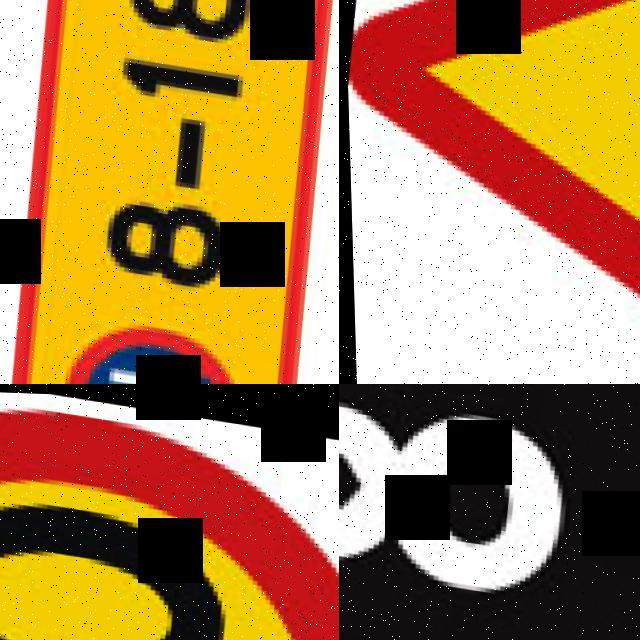100: (339, 384, 640, 640)
181: (0, 0, 339, 384)
55: (0, 384, 339, 640)
Uneven road: (339, 0, 640, 384)
